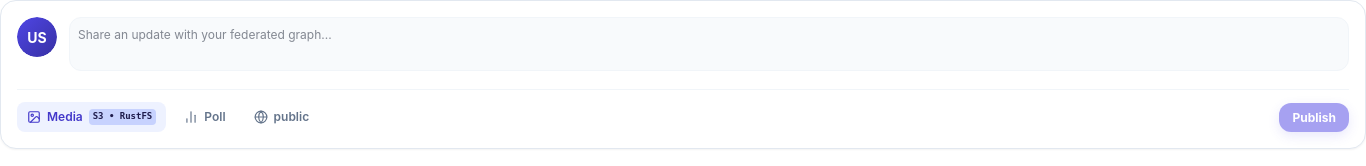
CreatePostCard Component › toggles visibility when clicked
Click the button with test id "visibility-toggle-btn".
click(281, 117)  # box [244,102,319,132]
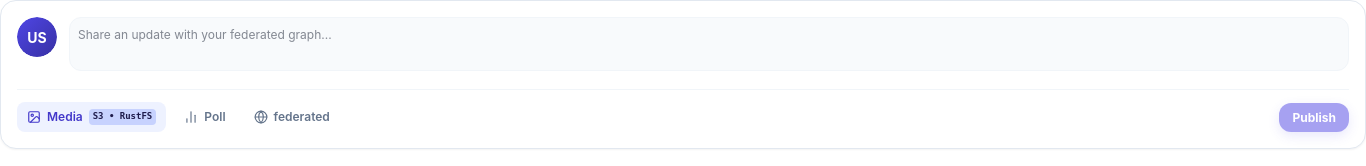
Expected: the button with test id "visibility-toggle-btn" reads "federated"
Click the button with test id "visibility-toggle-btn".
click(292, 117)  # box [244,102,340,132]
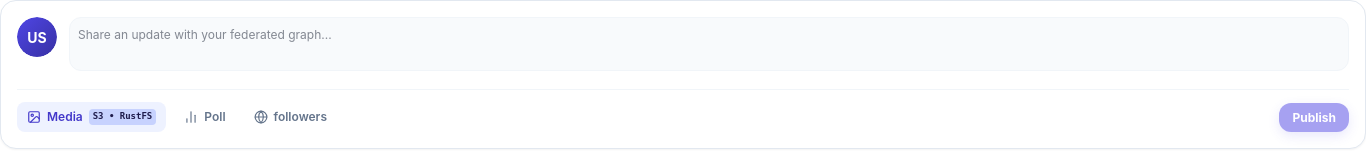
Expected: the button with test id "visibility-toggle-btn" reads "followers", [244,102,337,132]
